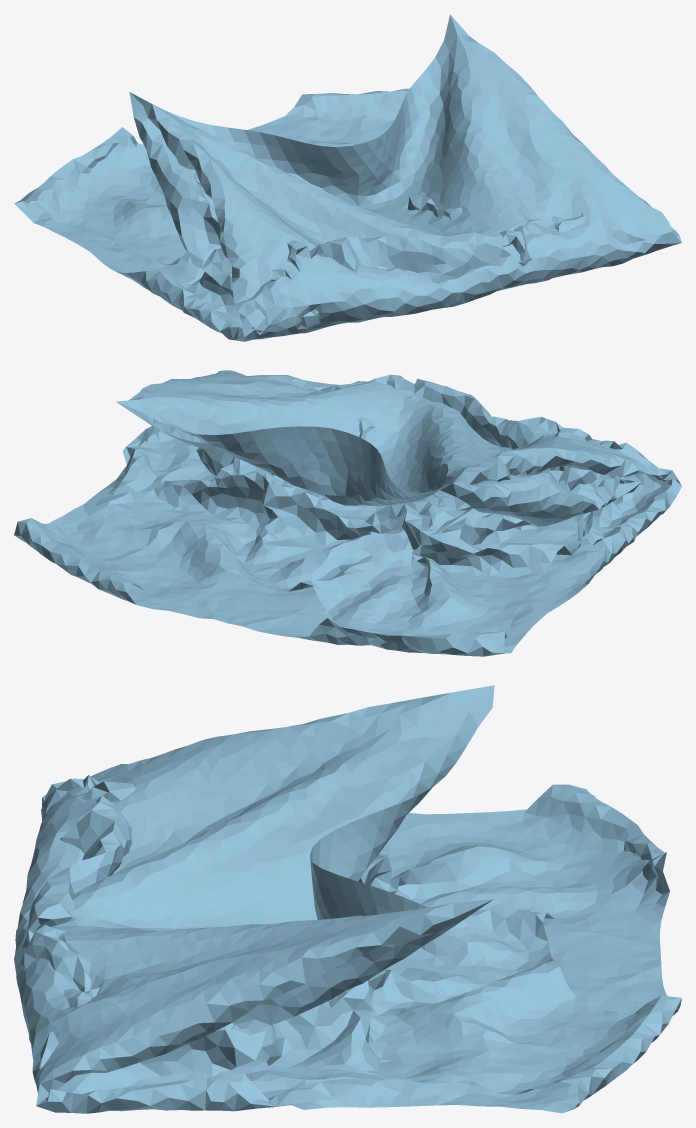
The model's file is frame_16.glb.
3 views of the same model, one above another, from view 1: azimuth 30°, elevation 25°; view 2: azimuth 150°, elevation 25°; view 3: azimuth 270°, elevation 25° (orthographic). The views are drawn at different scales.
Parts seen in each view (by area): view 1: frame_16.obj; view 2: frame_16.obj; view 3: frame_16.obj.
Part boxes in pixels (bbox=[...]): frame_16.obj: bbox=[14, 14, 681, 341]; frame_16.obj: bbox=[14, 370, 681, 656]; frame_16.obj: bbox=[14, 685, 681, 1113].
Size of the model in its own units: 1.25 by 0.3352 by 1.12.
